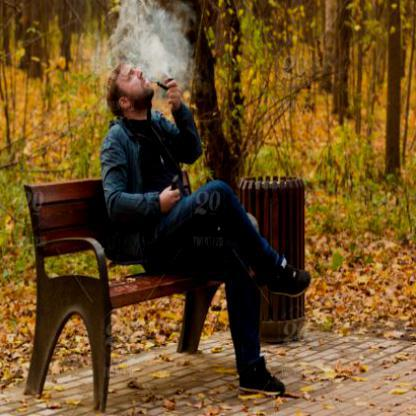cigarette: (158, 81, 167, 90)
person: (104, 60, 294, 410)
smoke: (113, 0, 190, 82)
